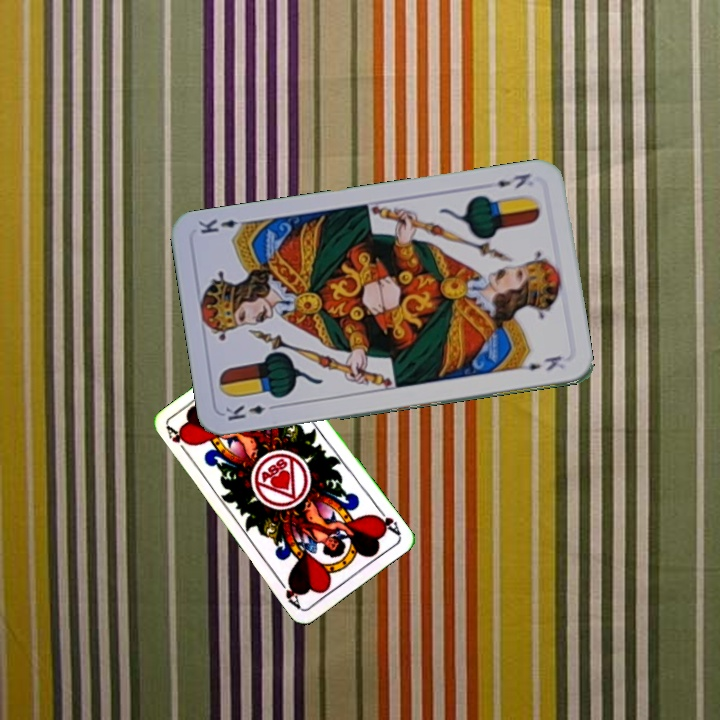EK: (221, 400, 281, 424), (481, 169, 534, 191)
HA: (370, 503, 403, 538), (163, 422, 192, 459)
